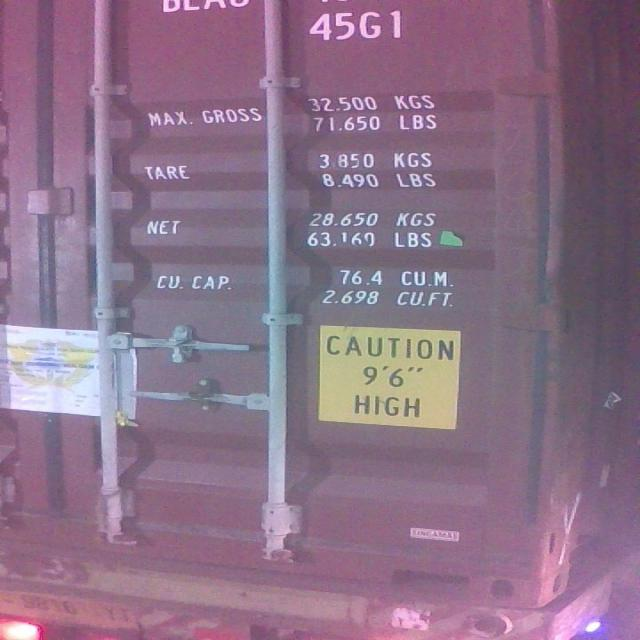seal: (166, 335, 190, 370)
